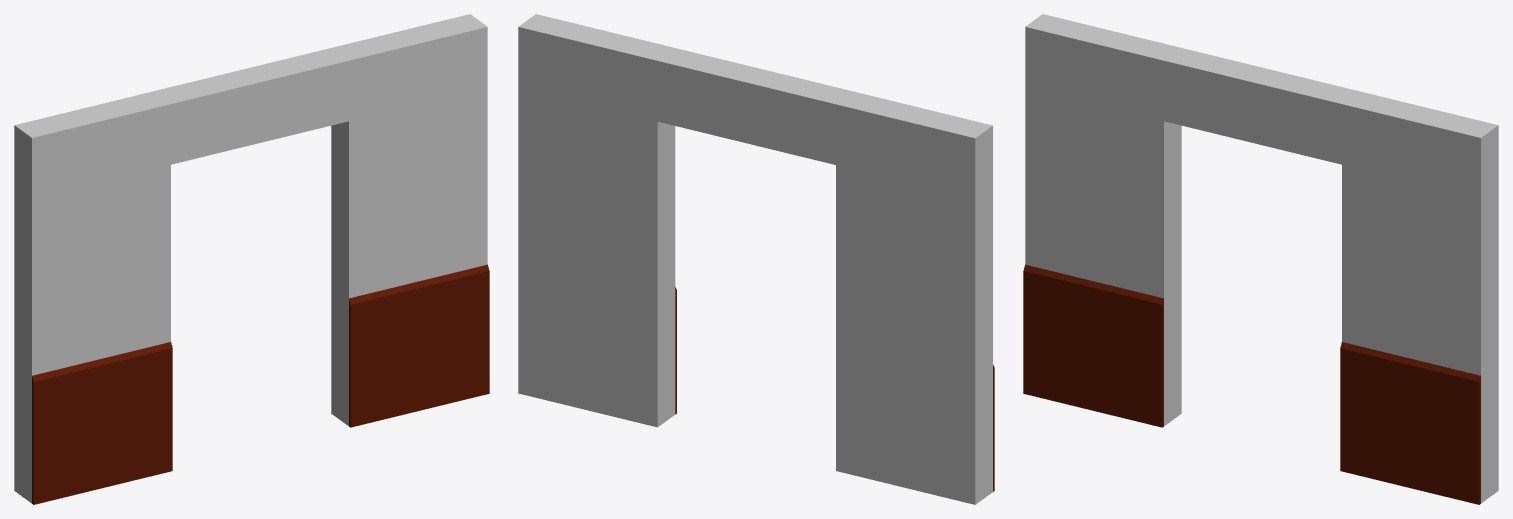
The model's file is SM_WallDoors.FBX.
3 renders of one model, left to right at view 1: azimuth 30°, elevation 25°; view 2: azimuth 150°, elevation 25°; view 3: azimuth 330°, elevation 25°, orthographic.
Visible parts, largest first — view 1: SM_WallDoors; view 2: SM_WallDoors; view 3: SM_WallDoors.
Part boxes in pixels (left/top/right/bottom): SM_WallDoors: left=14, top=14, right=489, bottom=504; SM_WallDoors: left=518, top=14, right=994, bottom=504; SM_WallDoors: left=1023, top=14, right=1498, bottom=504.
Bounding box in the file's own units: 118 × 90.55 × 8.63.
